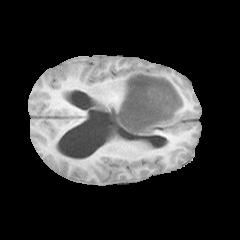glioma: (112, 68, 183, 135)
